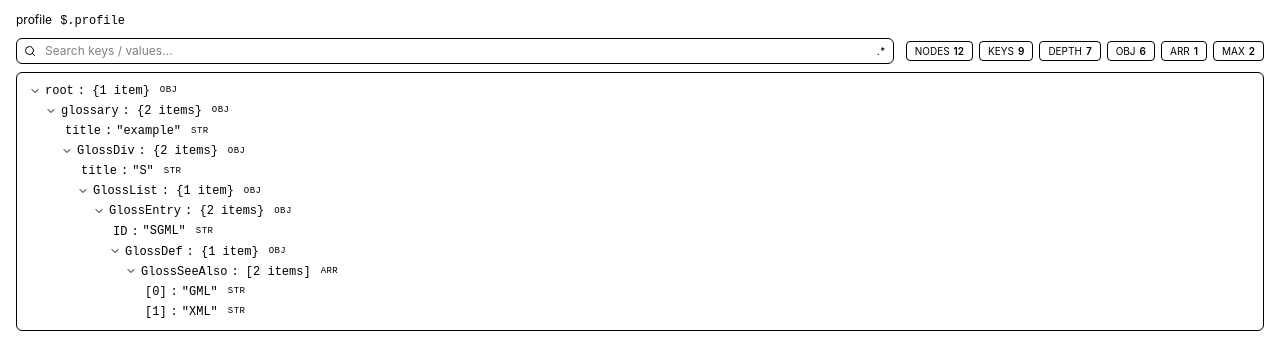
DocumentTreePanel › hides descendants when an ancestor is collapsed
Expected: the list item with test id "tree-node-glossary.GlossDiv" is shown, [61,144,245,158]
Click the button with test id "tree-twist-glossary" at (51, 111), box [45,105,57,117]
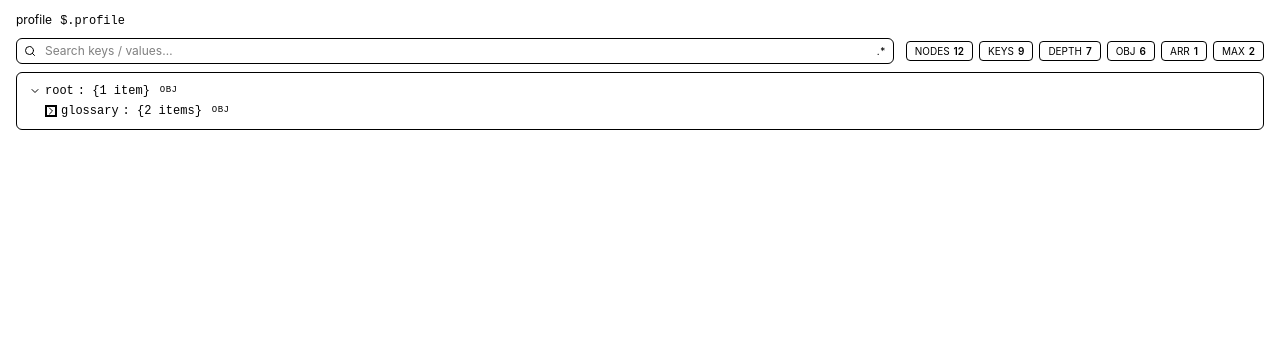
Result: the button with test id "tree-node-glossary.GlossDiv" is gone
